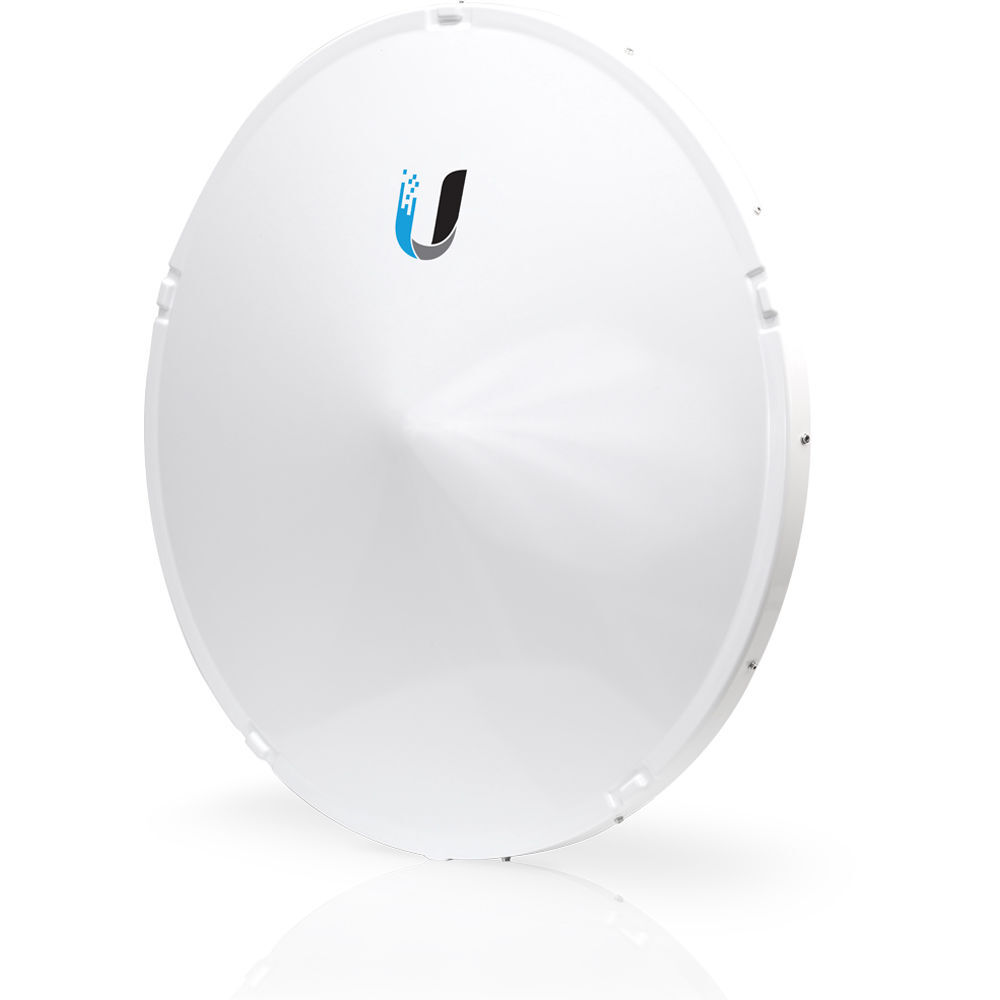ba: (58, 13, 845, 896)
